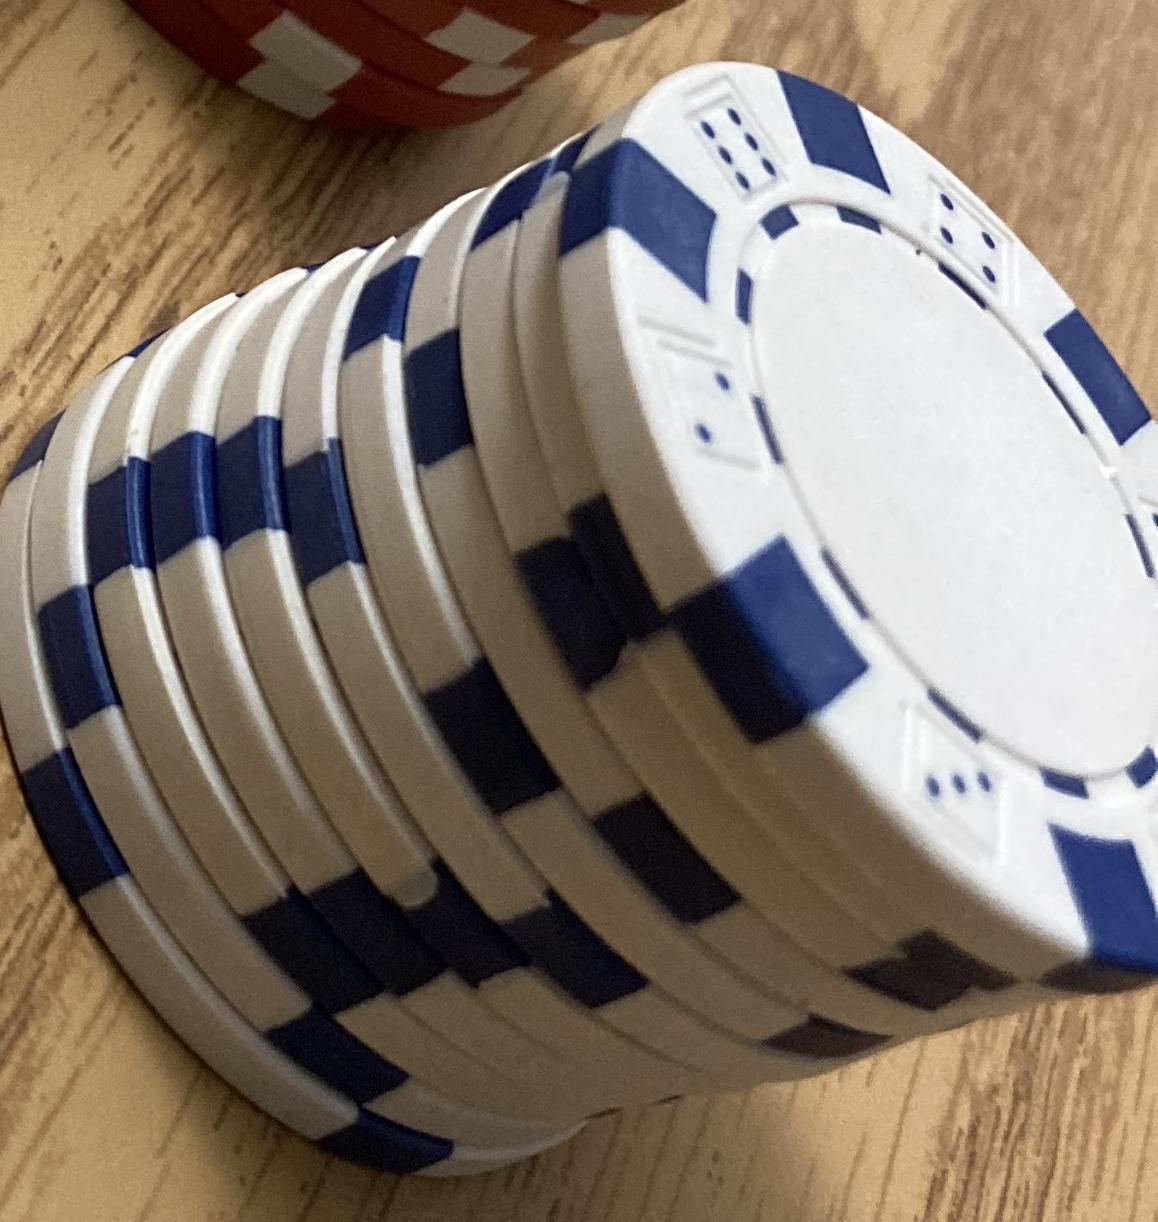Chip: (1, 1, 1158, 1222)
